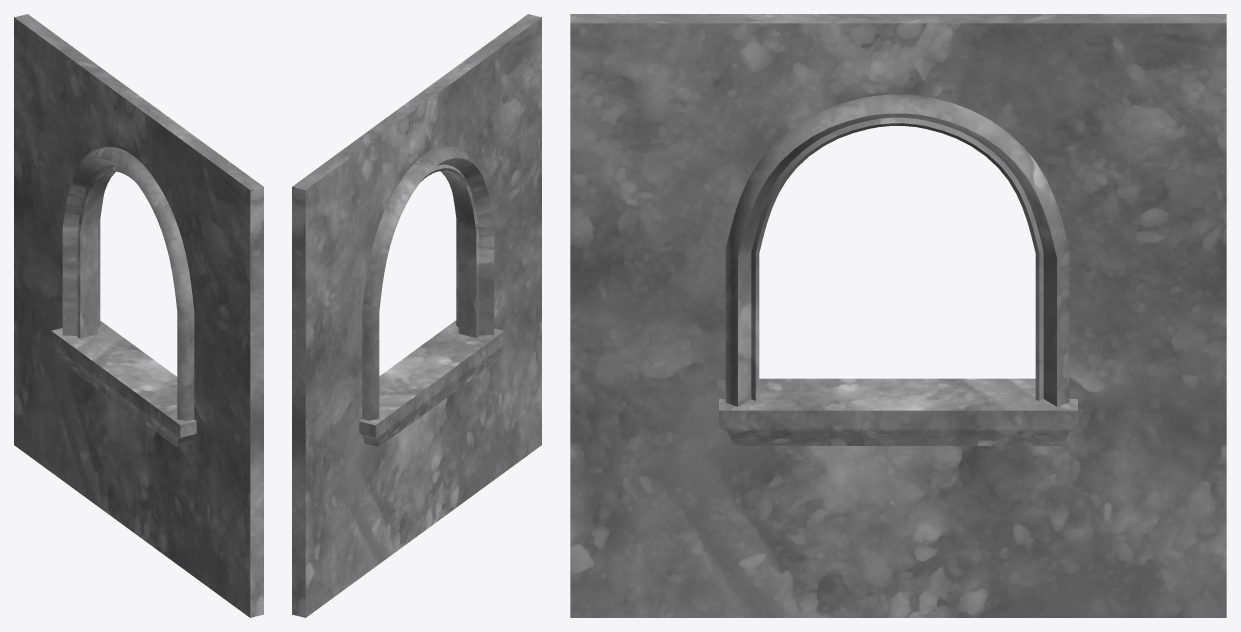
The model's file is SM_WallWindow_01g.fbx.
The picture shows the model from 3 angles, left to right: view 1: azimuth 30°, elevation 25°; view 2: azimuth 150°, elevation 25°; view 3: azimuth 270°, elevation 25°; orthographic projection. The views are drawn at different scales.
Parts seen in each view (by area): view 1: SM_WallWindow_01g_LOD0; view 2: SM_WallWindow_01g_LOD0; view 3: SM_WallWindow_01g_LOD0.
Boxes of the visible parts, x1,y1,x2,y2 form: SM_WallWindow_01g_LOD0: (14,14,263,617); SM_WallWindow_01g_LOD0: (292,14,541,617); SM_WallWindow_01g_LOD0: (570,14,1226,617).
Size of the model in its own units: 34.73 by 300 by 300.
